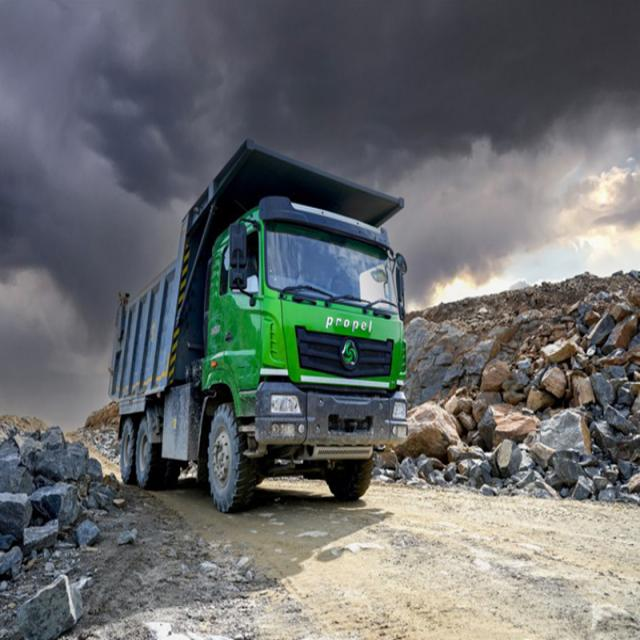truck: (110, 142, 408, 511)
